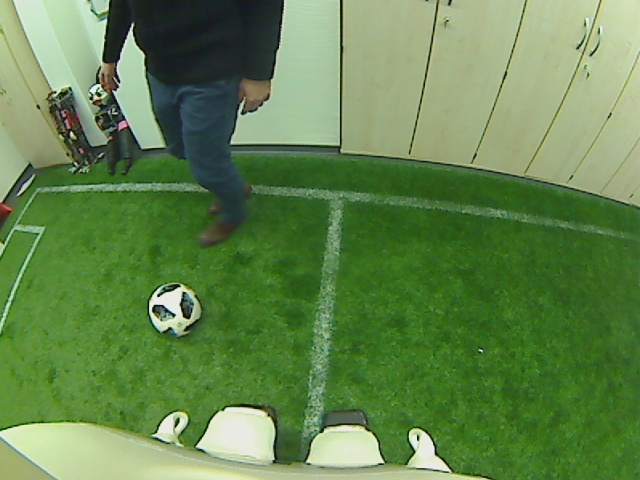ball: (145, 278, 202, 338)
